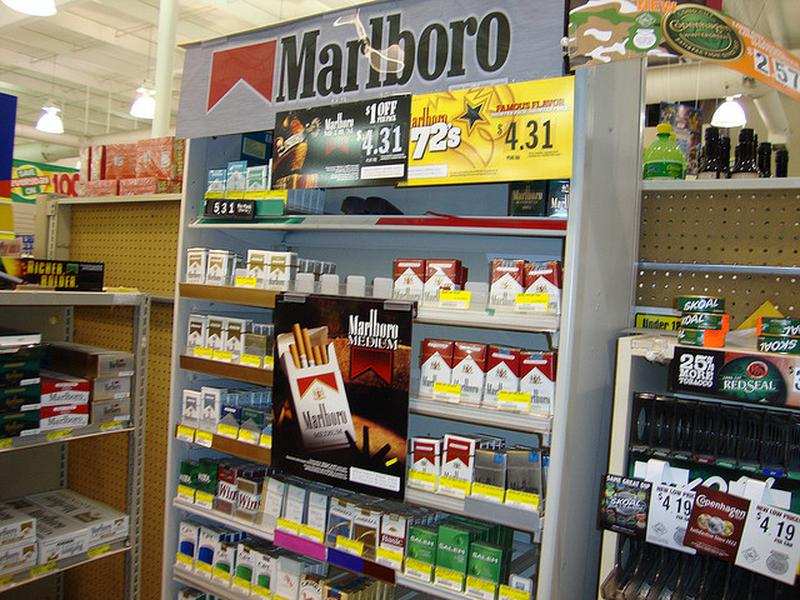marlboro_red: (482, 356, 521, 406), (451, 347, 484, 404), (521, 356, 556, 409), (524, 264, 559, 314), (489, 261, 522, 312), (421, 342, 452, 394), (441, 439, 476, 481), (392, 261, 422, 299), (426, 262, 456, 299), (409, 441, 439, 476)
